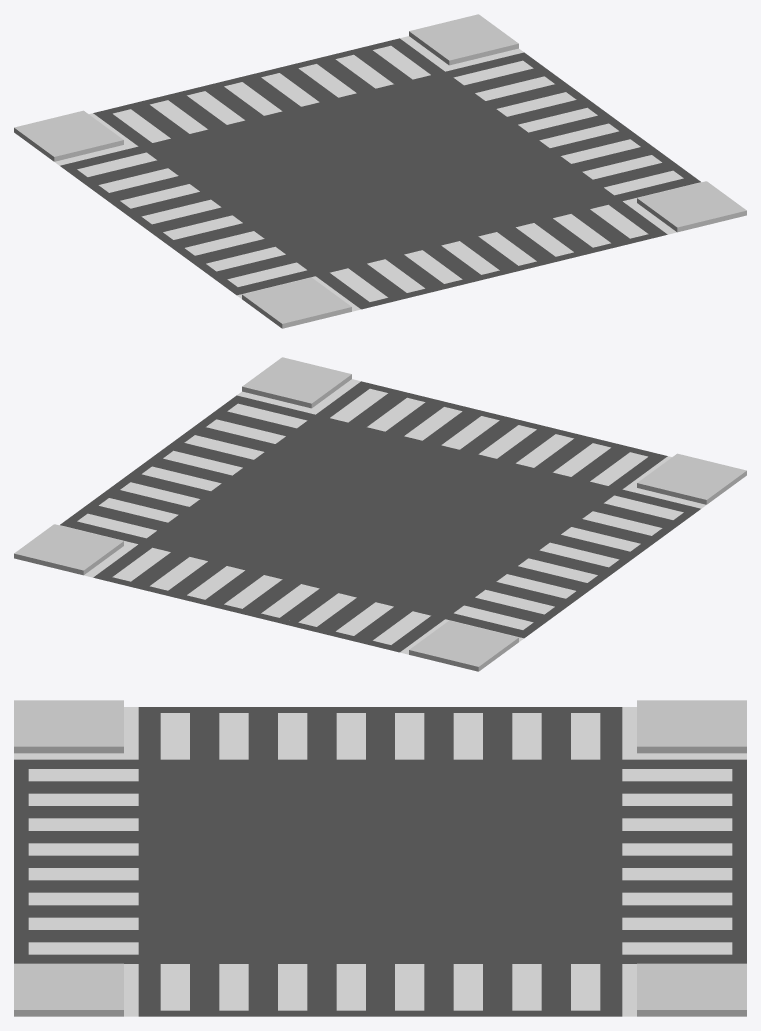
Rendered from Road Intersection_01.glb.
The picture shows the model from 3 angles, top to bottom: view 1: azimuth 30°, elevation 25°; view 2: azimuth 150°, elevation 25°; view 3: azimuth 270°, elevation 25°; orthographic projection. The views are drawn at different scales.
Visible parts, largest first — view 1: Road Intersection_01; view 2: Road Intersection_01; view 3: Road Intersection_01.
Boxes of the visible parts, x1,y1,x2,y2 form: Road Intersection_01: [14, 14, 746, 328]; Road Intersection_01: [14, 357, 746, 671]; Road Intersection_01: [14, 700, 746, 1016].
Bounding box in the file's own units: 1 × 0.01 × 1.
Materials: 1 (1 with a texture image).
